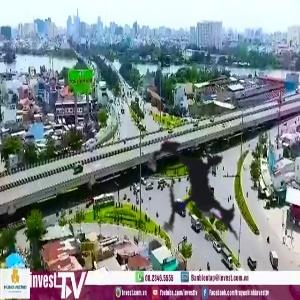drone: (102, 99, 285, 282)
